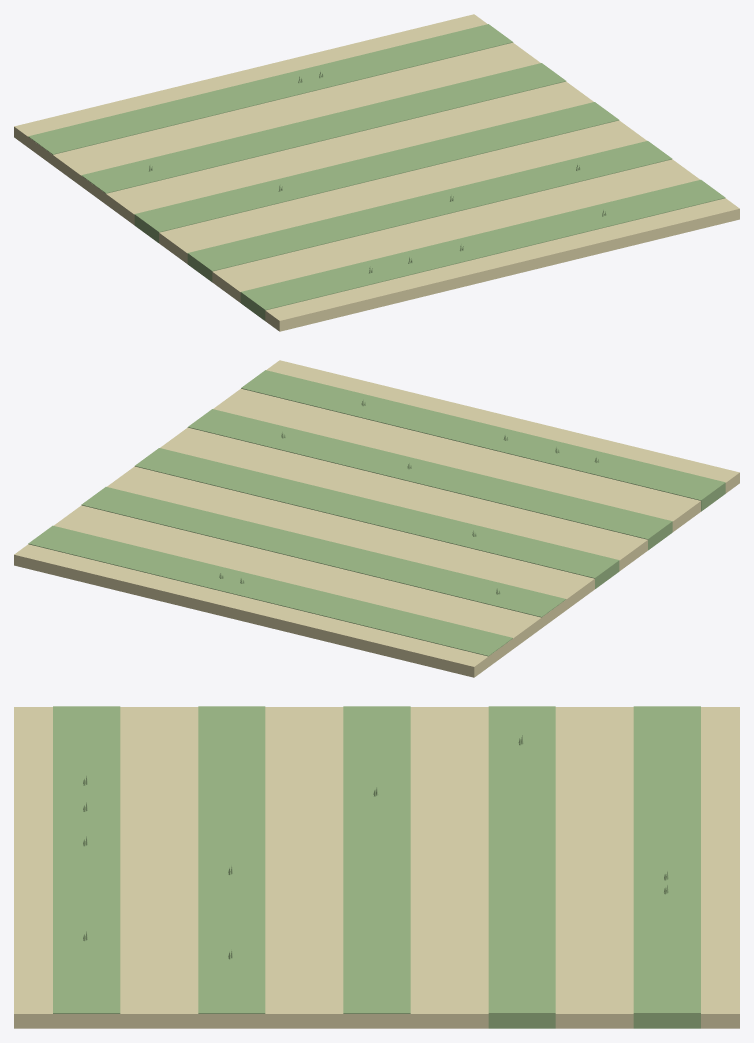
Rendered from hot-air-balloon-festival-launch-field-mown-strip-modul-12ca77f0__38488.glb.
The picture shows the model from 3 angles, top to bottom: view 1: azimuth 30°, elevation 25°; view 2: azimuth 150°, elevation 25°; view 3: azimuth 270°, elevation 25°; orthographic projection. The views are drawn at different scales.
Visible parts, largest first — view 1: launch-field-mown-strip-module-straw, launch-field-mown-strip-module-grass; view 2: launch-field-mown-strip-module-straw, launch-field-mown-strip-module-grass; view 3: launch-field-mown-strip-module-straw, launch-field-mown-strip-module-grass.
Boxes of the visible parts, bbox=[...] form: launch-field-mown-strip-module-straw: bbox=[14, 14, 739, 331]; launch-field-mown-strip-module-grass: bbox=[28, 24, 725, 320]; launch-field-mown-strip-module-straw: bbox=[14, 360, 739, 677]; launch-field-mown-strip-module-grass: bbox=[28, 370, 725, 656]; launch-field-mown-strip-module-straw: bbox=[14, 707, 739, 1028]; launch-field-mown-strip-module-grass: bbox=[53, 706, 700, 1028].
Size of the model in its own units: 8 by 0.2999 by 8.
